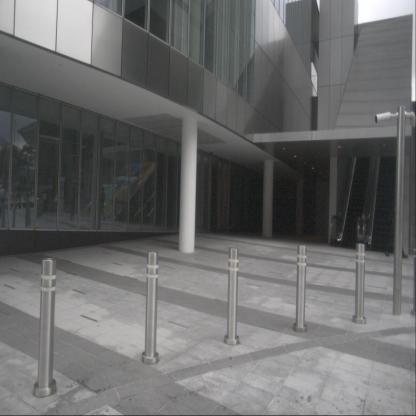human-pedestrian-adult: (69, 184, 76, 221), (100, 185, 106, 221), (0, 185, 6, 218), (43, 192, 48, 216)
